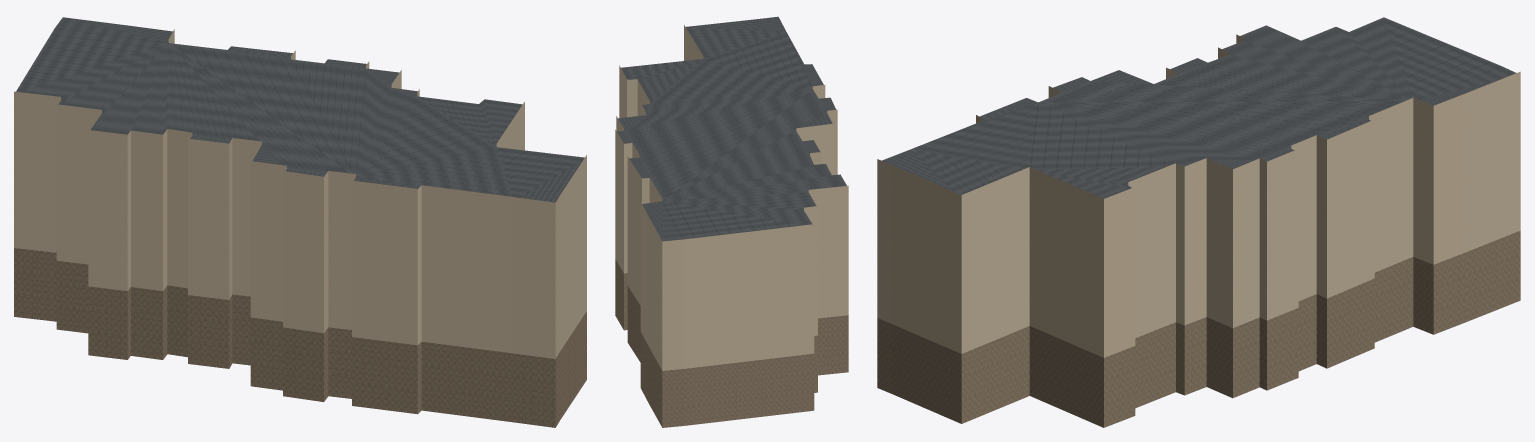
File: core_0104.gltf
3 views of the same model, side by side, from view 1: azimuth 30°, elevation 25°; view 2: azimuth 150°, elevation 25°; view 3: azimuth 270°, elevation 25° (orthographic). The views are drawn at different scales.
Visible parts, largest first — view 1: core_0104; view 2: core_0104; view 3: core_0104.
Boxes of the visible parts, x1,y1,x2,y2 form: core_0104: [14, 17, 586, 427]; core_0104: [615, 16, 848, 427]; core_0104: [877, 17, 1520, 427].
Bounding box in the file's own units: 28.9 × 16.68 × 42.46.
3 materials, 3 textured.
